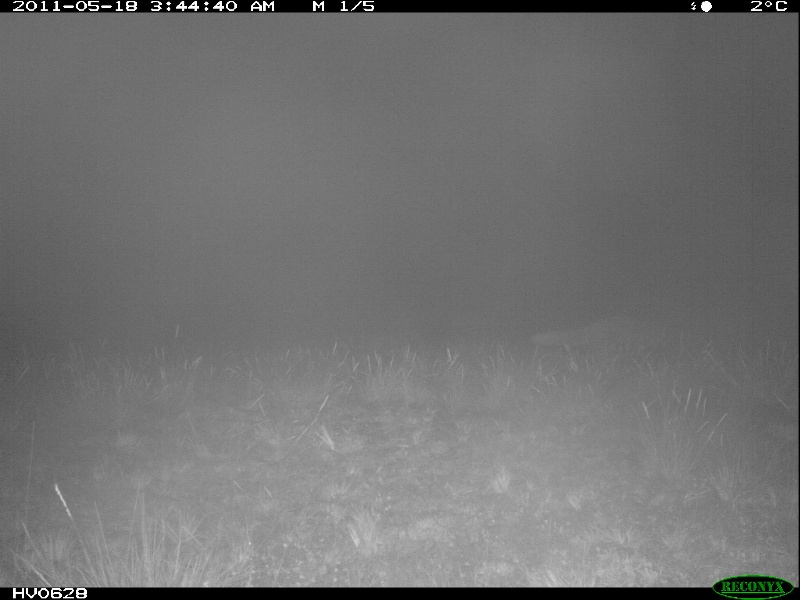fox: (527, 309, 649, 362)
